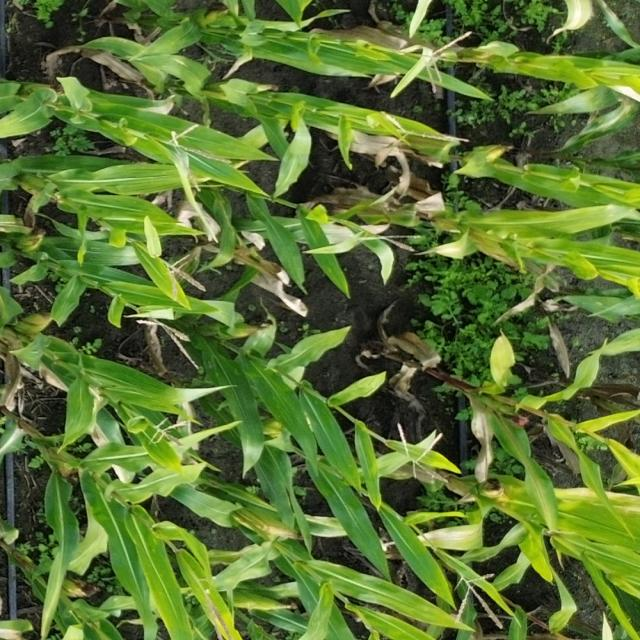northern-leaf-blight: (530, 476, 640, 516), (425, 519, 487, 562), (308, 507, 347, 547), (432, 237, 468, 274)
